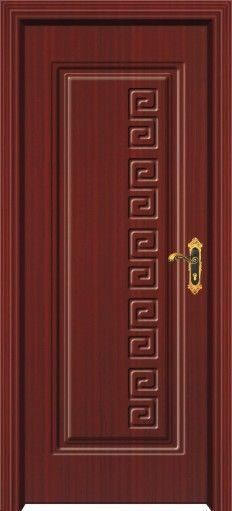door: (15, 20, 210, 500)
